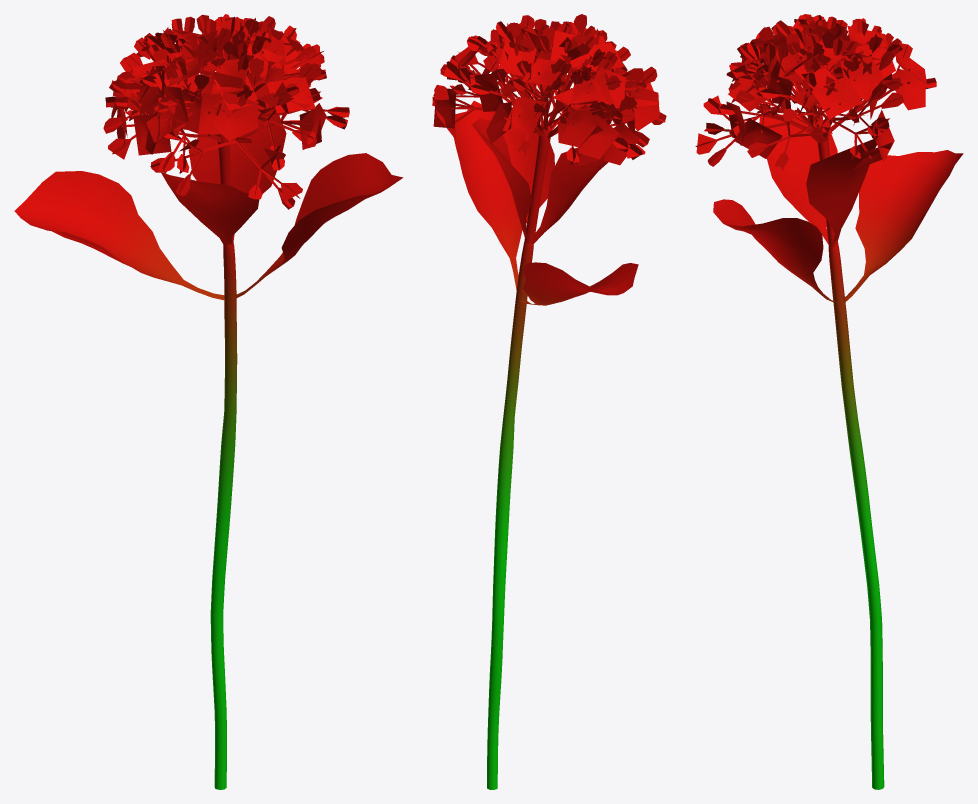
The model's file is Var11_LOD0.fbx.
3 renders of one model, left to right at view 1: azimuth 30°, elevation 25°; view 2: azimuth 150°, elevation 25°; view 3: azimuth 270°, elevation 25°, orthographic. The views are drawn at different scales.
Parts seen in each view (by area): view 1: _zxyc_Var11_LOD0; view 2: _zxyc_Var11_LOD0; view 3: _zxyc_Var11_LOD0.
Boxes of the visible parts, x1,y1,x2,y2 form: _zxyc_Var11_LOD0: [14, 14, 403, 789]; _zxyc_Var11_LOD0: [432, 14, 666, 789]; _zxyc_Var11_LOD0: [695, 14, 963, 789].
Bounding box in the file's own units: 16.09 × 45.09 × 14.6.
